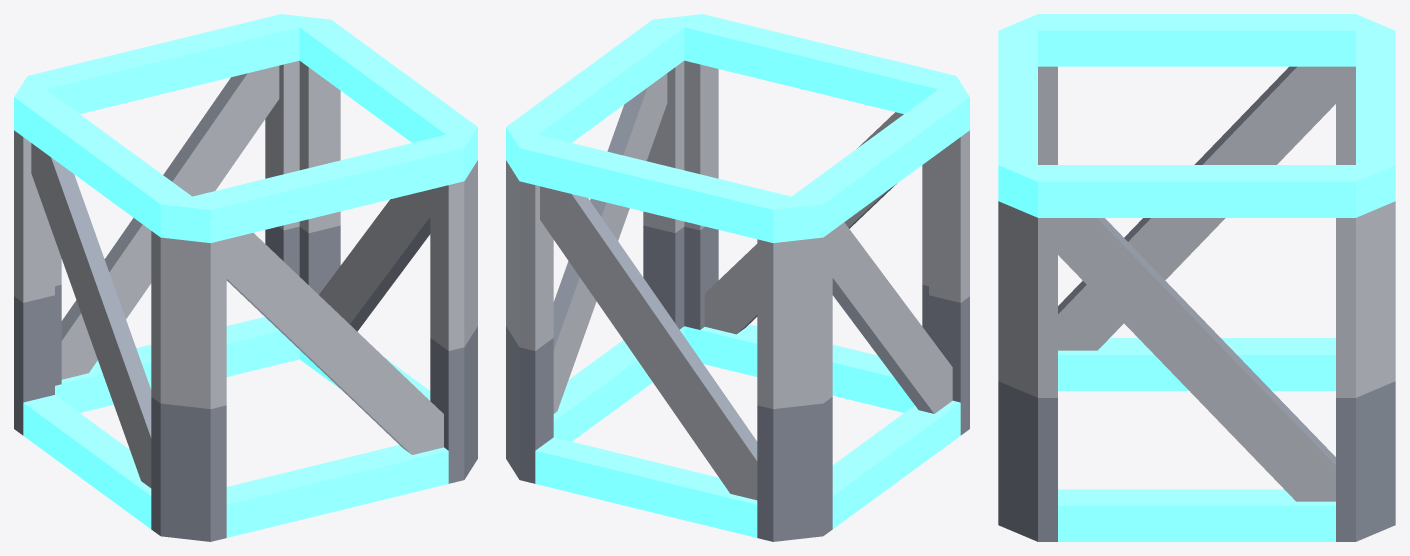
The model's file is structure_diagonal.glb.
3 renders of one model, left to right at view 1: azimuth 30°, elevation 25°; view 2: azimuth 150°, elevation 25°; view 3: azimuth 270°, elevation 25°, orthographic. The views are drawn at different scales.
Visible parts, largest first — view 1: structure_diagonal; view 2: structure_diagonal; view 3: structure_diagonal.
Part boxes in pixels (bbox=[...]): structure_diagonal: bbox=[14, 14, 477, 541]; structure_diagonal: bbox=[506, 14, 969, 541]; structure_diagonal: bbox=[998, 14, 1395, 541].
Bounding box in the file's own units: 1 × 1 × 1.
